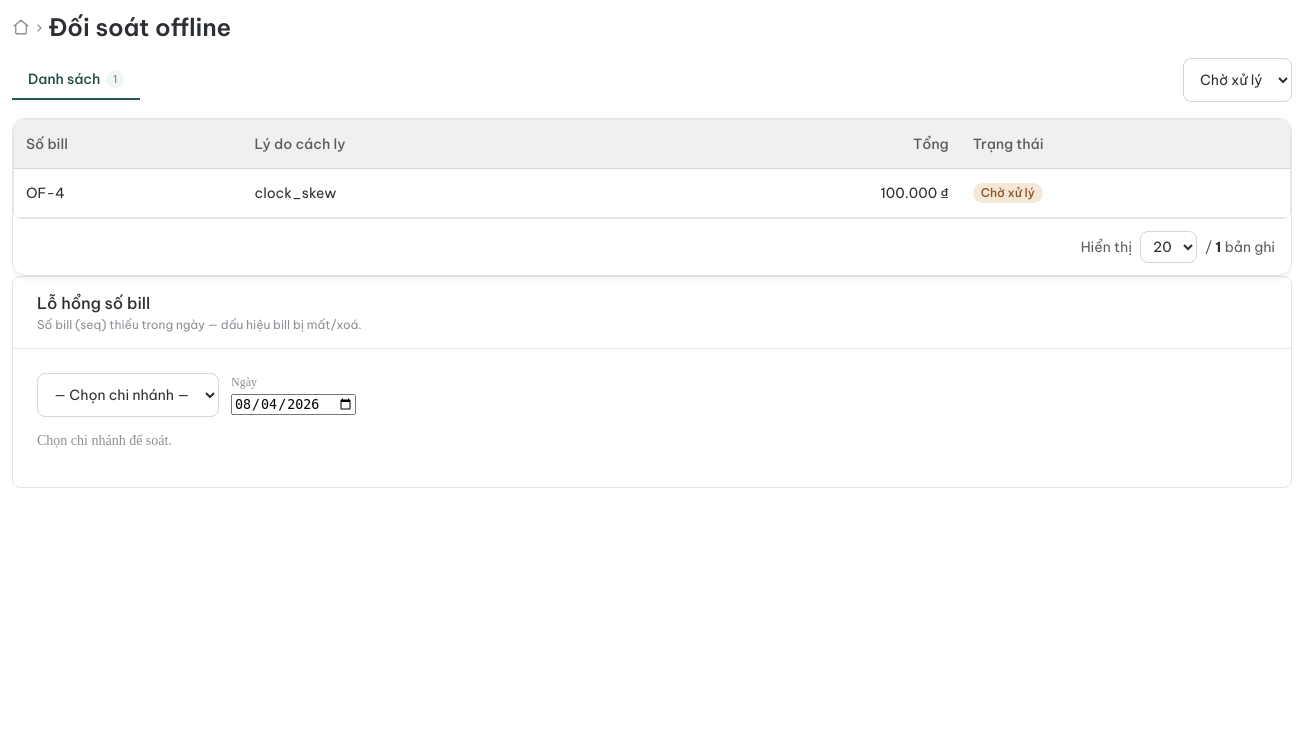
it: OfflineReconPage › detects missing bill numbers after choosing a branch
Expected: the text "OF-4" is shown, left=14, top=168, right=242, bottom=218
Select "CN01" in the dropdown named "Chi nhánh". click: (128, 395)
box: left=37, top=373, right=219, bottom=417
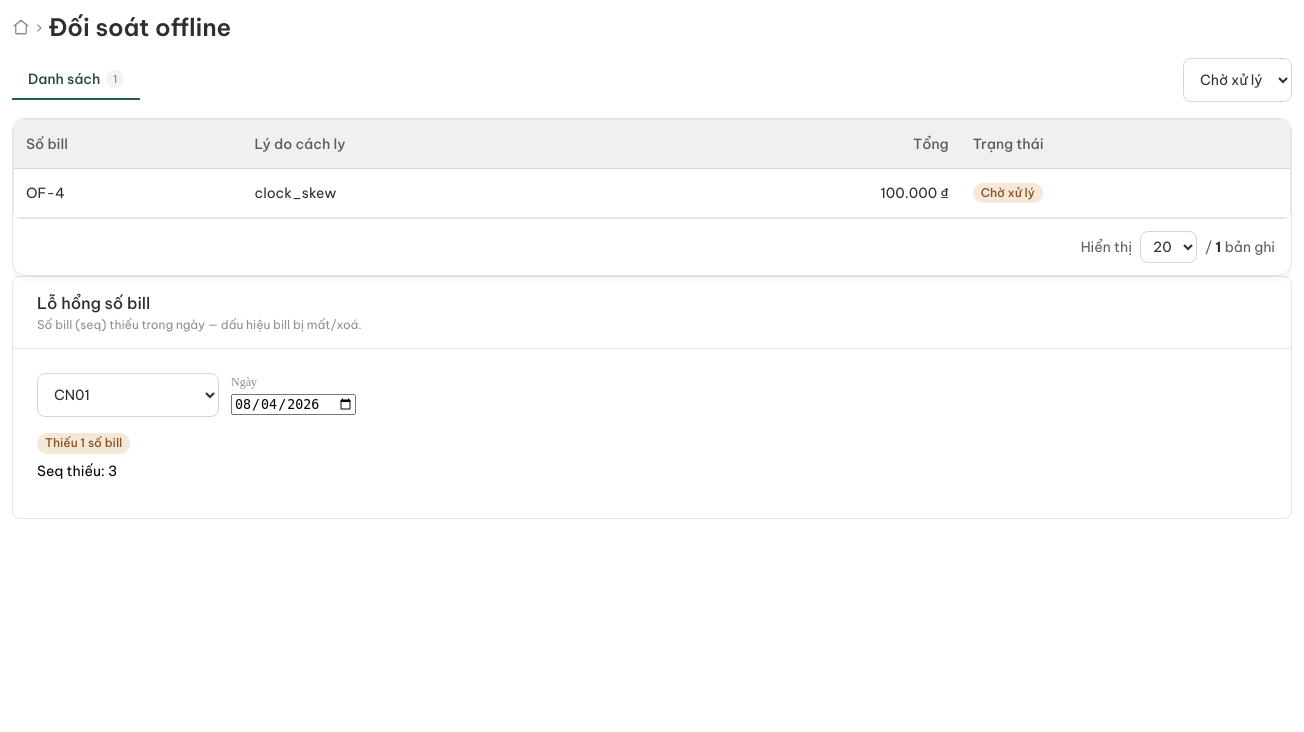
Result: the text "Seq thiếu: 3" is shown at left=37, top=462, right=117, bottom=480
